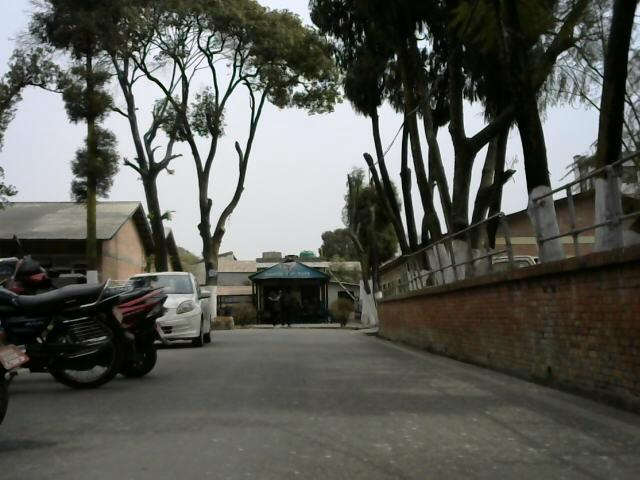Motorcycle: (0, 246, 168, 416)
Road: (152, 329, 640, 480)
Tree: (36, 0, 316, 281), (314, 4, 640, 209)
